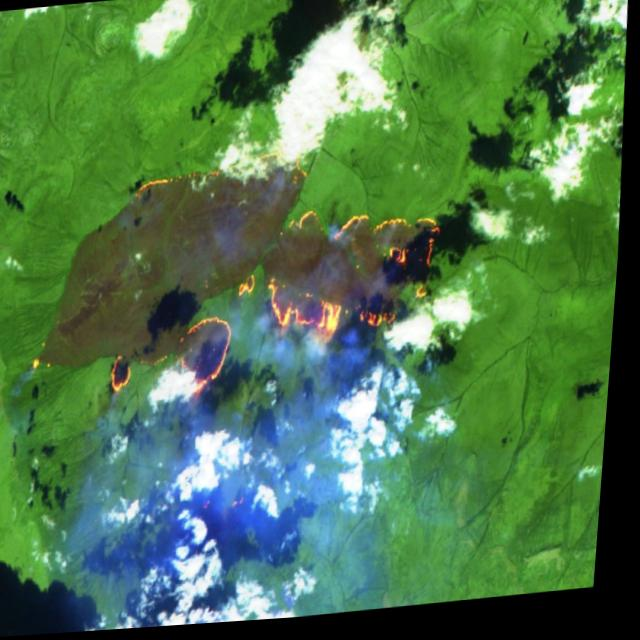fire: (22, 131, 456, 423)
